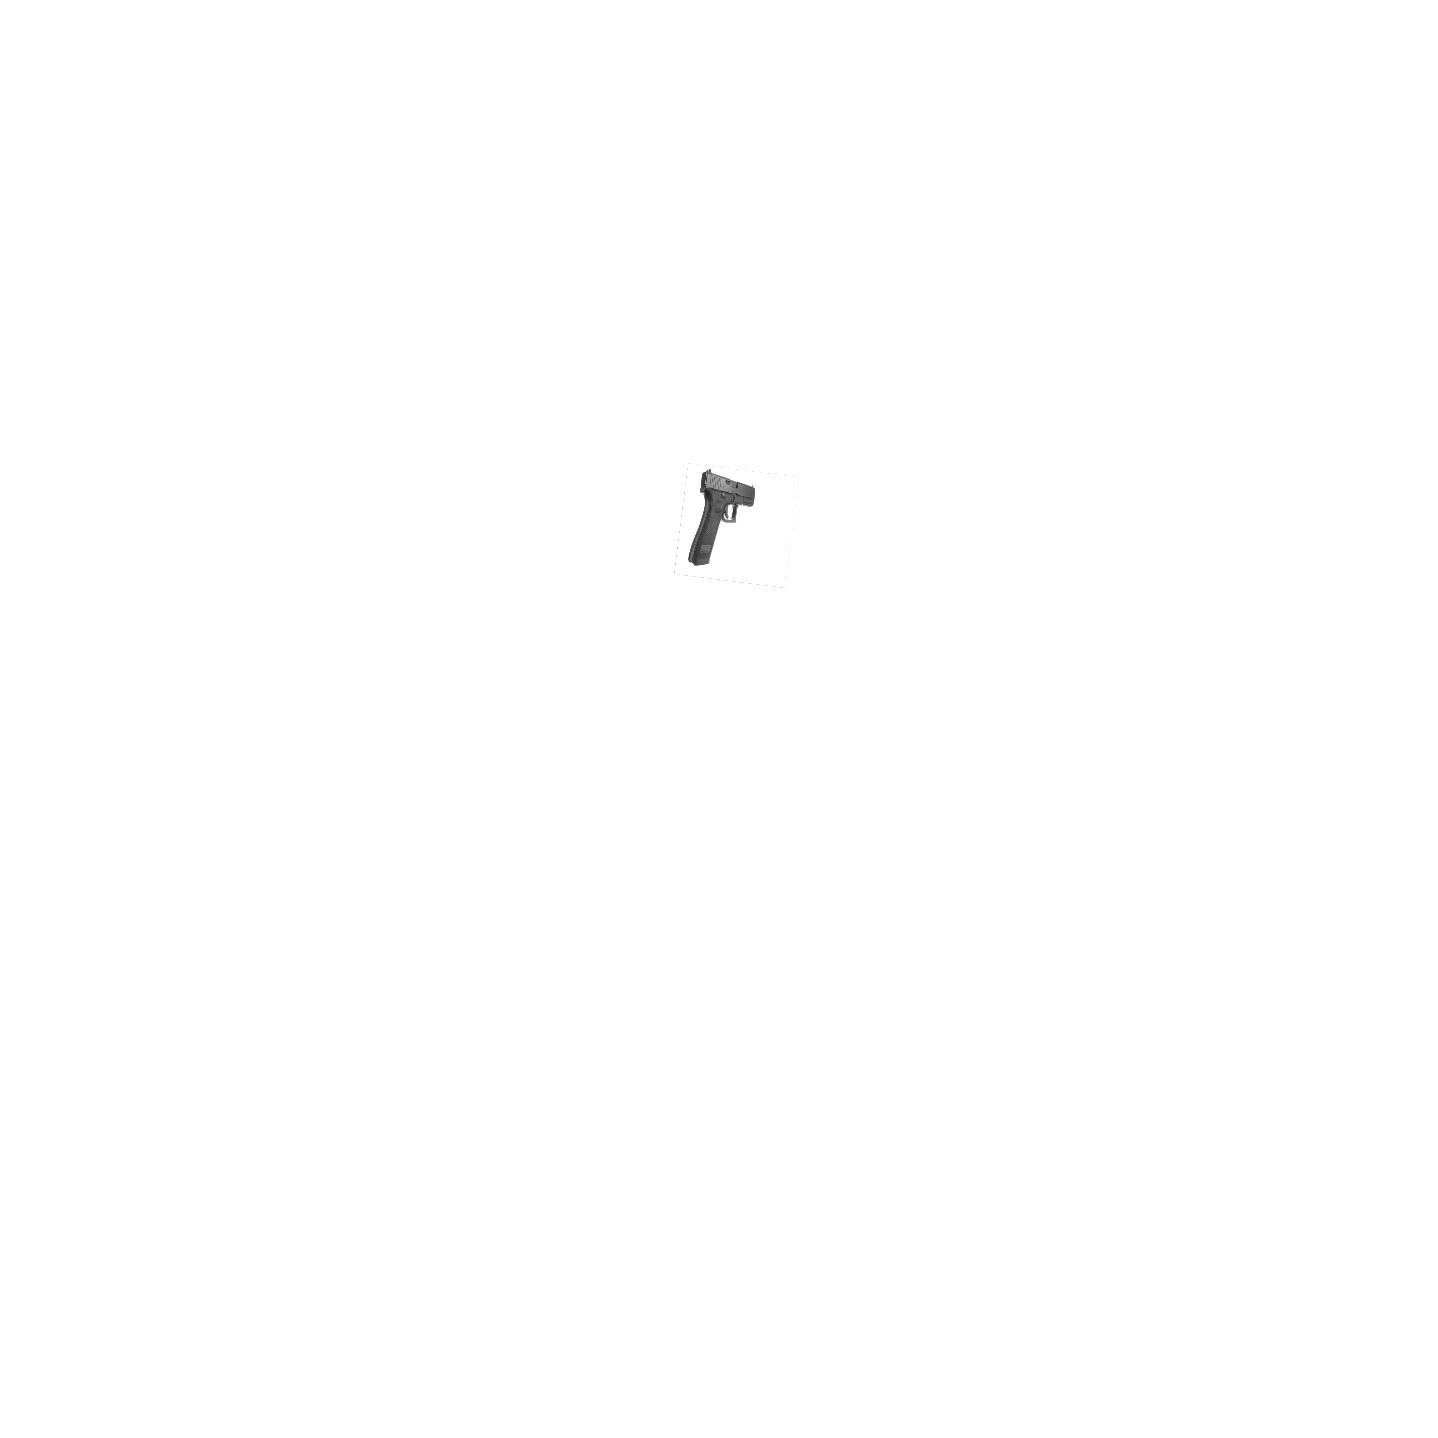gun: (686, 467, 755, 566)
